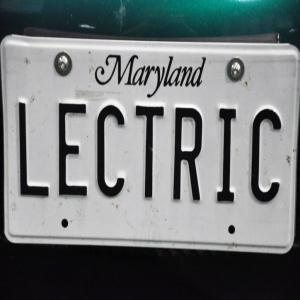Vehicle-registration-plate: (1, 35, 300, 255)
